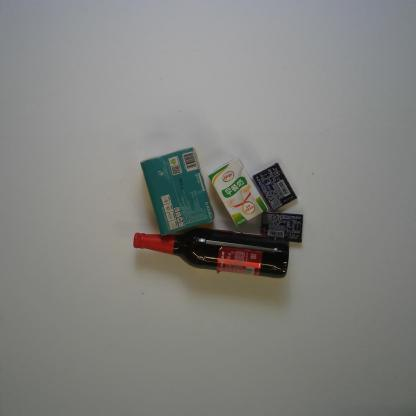Alcohol: (132, 226, 290, 280)
Gum: (252, 161, 298, 213), (259, 211, 304, 244)
Milk: (206, 157, 268, 229)
Tissue: (140, 146, 216, 237)
